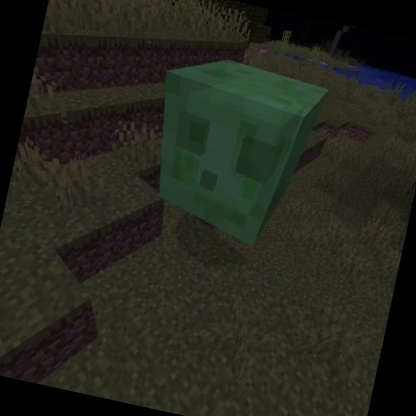slime: (127, 41, 335, 262)
